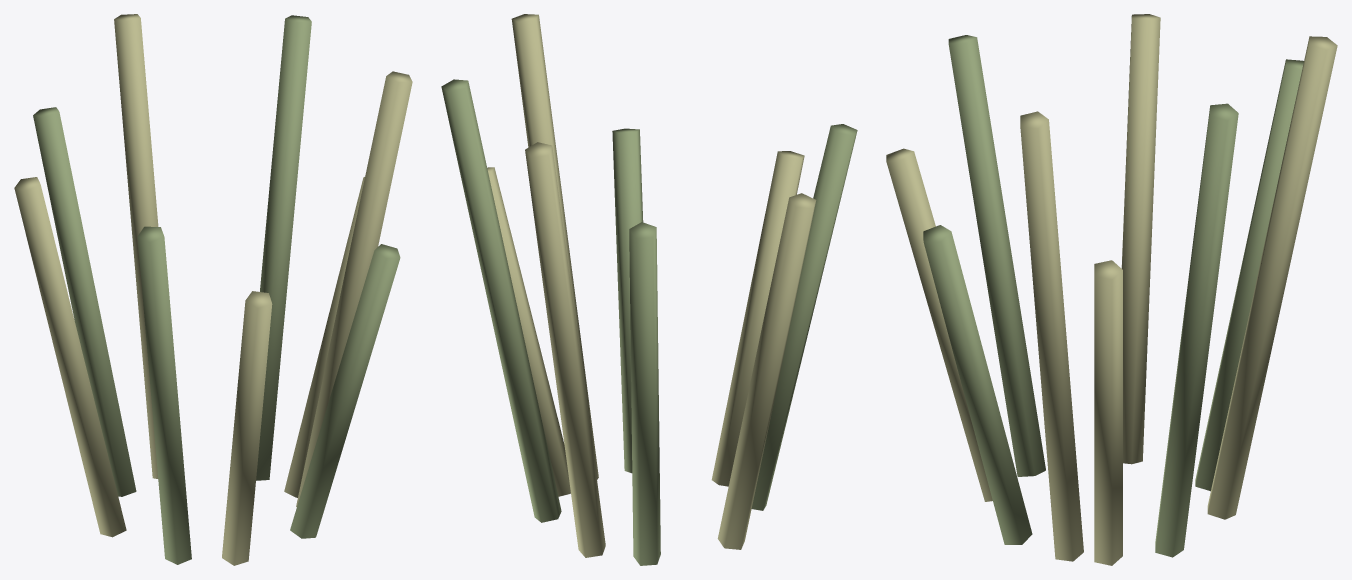
Rendered from grass.glb.
3 renders of one model, left to right at view 1: azimuth 30°, elevation 25°; view 2: azimuth 150°, elevation 25°; view 3: azimuth 270°, elevation 25°, orthographic. The views are drawn at different scales.
Parts seen in each view (by area): view 1: tyaga-grass-surface; view 2: tyaga-grass-surface; view 3: tyaga-grass-surface.
Boxes of the visible parts, box(x1,y1,x2,y2) form: tyaga-grass-surface: box(14, 14, 412, 565); tyaga-grass-surface: box(441, 14, 857, 565); tyaga-grass-surface: box(886, 14, 1337, 565).
Bounding box in the file's own units: 0.4029 × 0.4665 × 0.3975.
